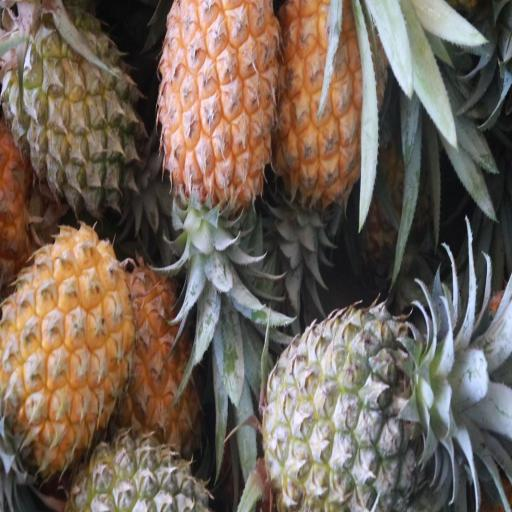------------------------------: (7, 0, 138, 215)
Pineapple - v8 v1: (5, 226, 130, 472), (161, 0, 275, 207), (280, 0, 383, 207), (125, 267, 209, 458)
